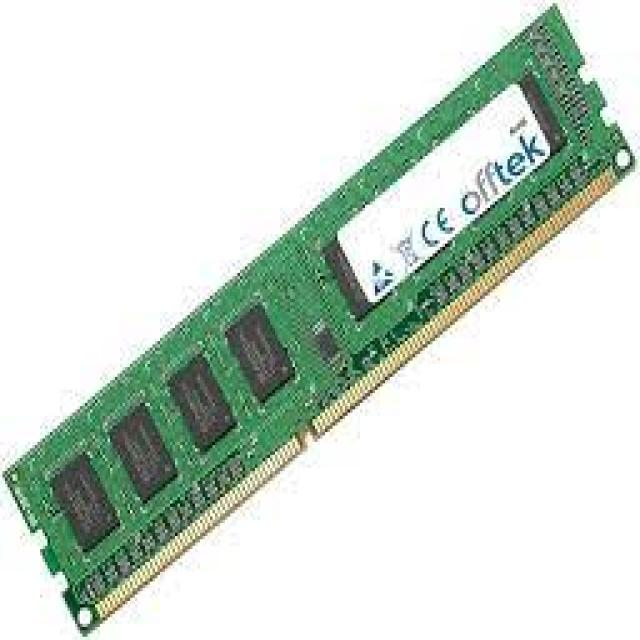Ram: (52, 116, 540, 572)
